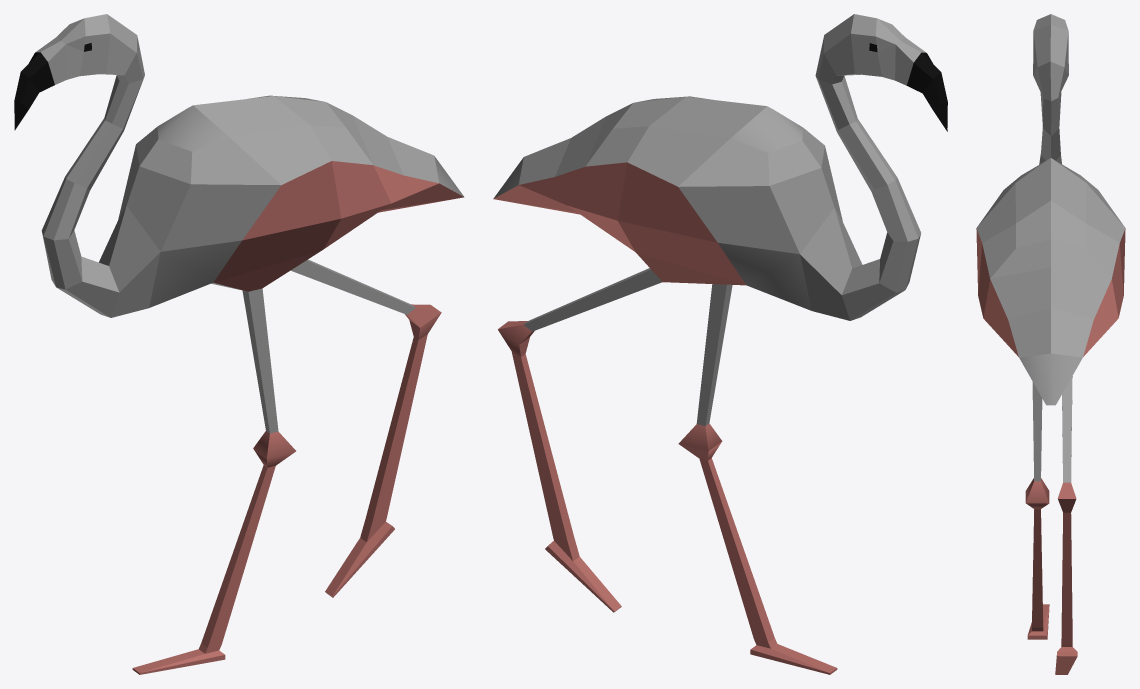
3 renders of one model, left to right at view 1: azimuth 30°, elevation 25°; view 2: azimuth 150°, elevation 25°; view 3: azimuth 270°, elevation 25°, orthographic. The views are drawn at different scales.
Parts seen in each view (by area): view 1: Box001_Material_#46_0, Box001_Material_#48_0, Box001_Material_#47_0; view 2: Box001_Material_#46_0, Box001_Material_#48_0, Box001_Material_#47_0; view 3: Box001_Material_#46_0, Box001_Material_#48_0.
Part boxes in pixels (left/top/right/bottom): Box001_Material_#46_0: left=35, top=14, right=463, bottom=596; Box001_Material_#48_0: left=132, top=161, right=463, bottom=674; Box001_Material_#47_0: left=14, top=43, right=91, bottom=130; Box001_Material_#46_0: left=493, top=14, right=926, bottom=611; Box001_Material_#48_0: left=493, top=162, right=837, bottom=674; Box001_Material_#47_0: left=869, top=43, right=947, bottom=131; Box001_Material_#46_0: left=976, top=14, right=1125, bottom=482; Box001_Material_#48_0: left=976, top=228, right=1125, bottom=674.
Size of the model in its own units: 2.45 by 3.46 by 0.8167.
